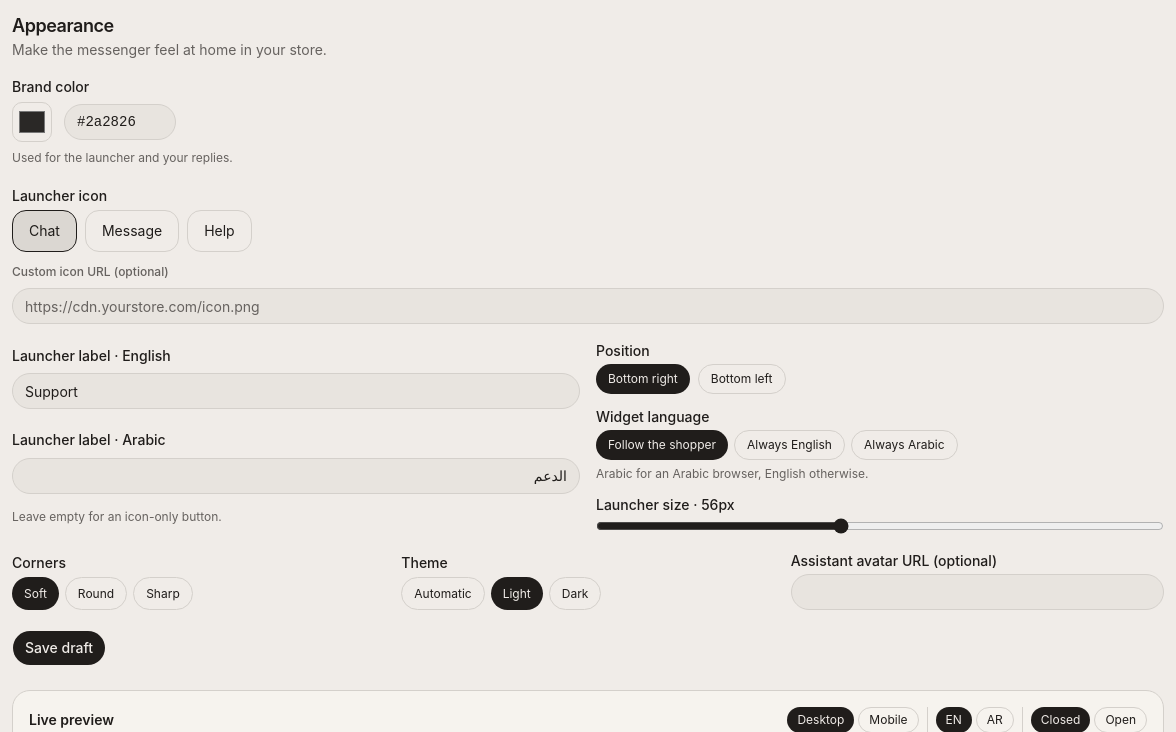
AppearanceEditor › sends the edited appearance to the draft action
Replace the text in the field named "Brand color" with "#ff0055" at (120, 122), box top-left (64, 104), bottom-right (176, 140)
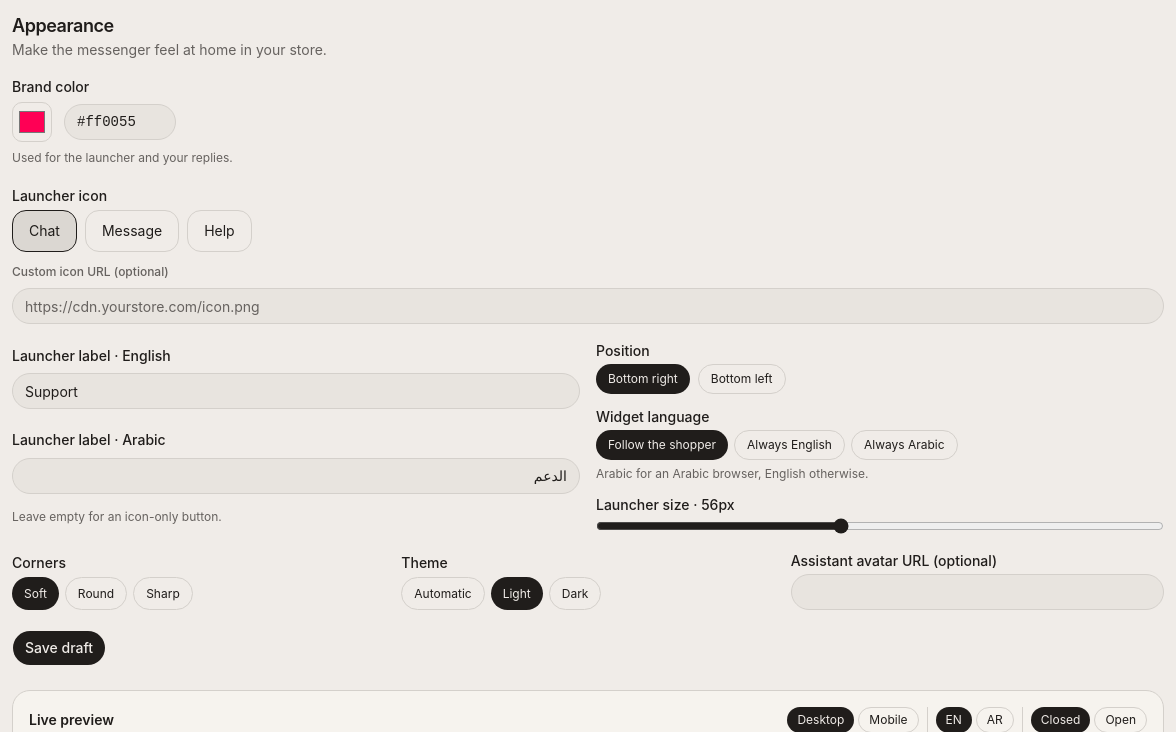
Click the button "Save draft" at (59, 648), box top-left (12, 630), bottom-right (106, 666)
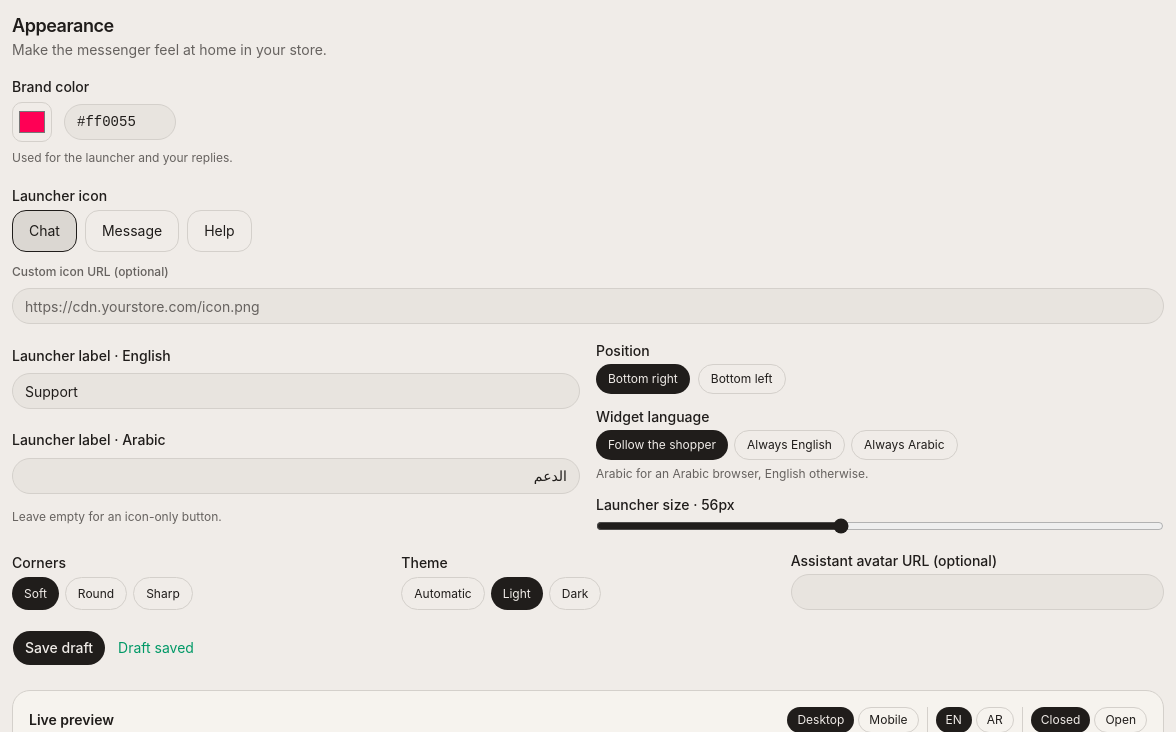
Expected: the text "Draft saved" is shown, top-left (118, 638), bottom-right (194, 658)
